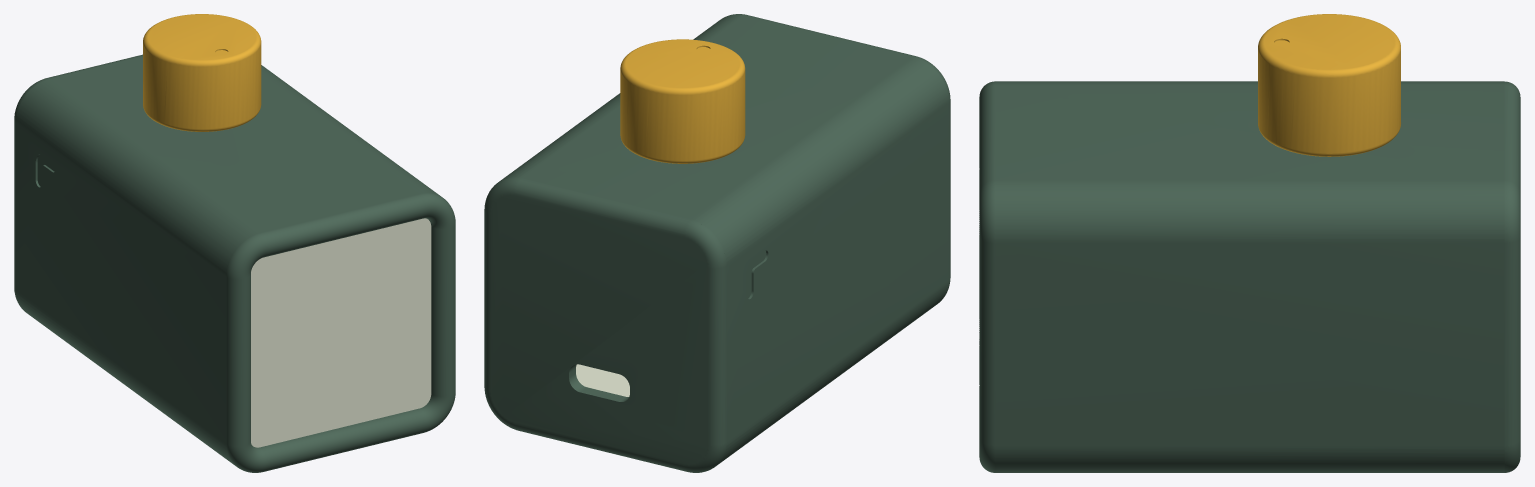
Rendered from noise-emitter-pbr.glb.
3 views of the same model, side by side, from view 1: azimuth 30°, elevation 25°; view 2: azimuth 150°, elevation 25°; view 3: azimuth 270°, elevation 25° (orthographic). The views are drawn at different scales.
Parts seen in each view (by area): view 1: Noise Emitter / shell, Noise Emitter / frame, Noise Emitter / knob, Noise Emitter / lid; view 2: Noise Emitter / shell, Noise Emitter / lid, Noise Emitter / knob, Noise Emitter / frame; view 3: Noise Emitter / shell, Noise Emitter / knob, Noise Emitter / lid.
Boxes of the visible parts, left/top/right/bottom form: Noise Emitter / shell: left=16, top=56, right=455, bottom=472; Noise Emitter / frame: left=251, top=218, right=431, bottom=447; Noise Emitter / knob: left=143, top=14, right=261, bottom=131; Noise Emitter / lid: left=14, top=54, right=142, bottom=308; Noise Emitter / shell: left=500, top=14, right=950, bottom=464; Noise Emitter / lid: left=484, top=177, right=726, bottom=472; Noise Emitter / knob: left=620, top=39, right=745, bottom=163; Noise Emitter / frame: left=576, top=364, right=629, bottom=396; Noise Emitter / shell: left=979, top=81, right=1504, bottom=472; Noise Emitter / knob: left=1258, top=14, right=1400, bottom=156; Noise Emitter / lid: left=1504, top=81, right=1520, bottom=472.
Bounding box in the file's own units: 0.04 × 0.0526 × 0.068.
